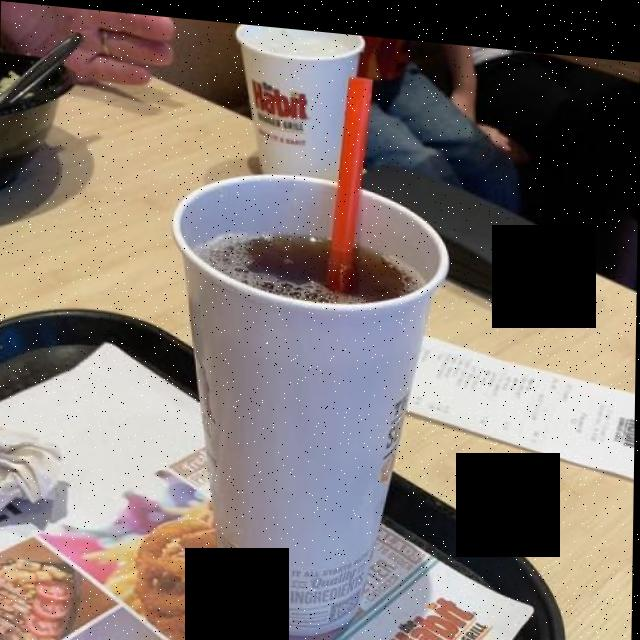ice-tea: (210, 221, 414, 295)
